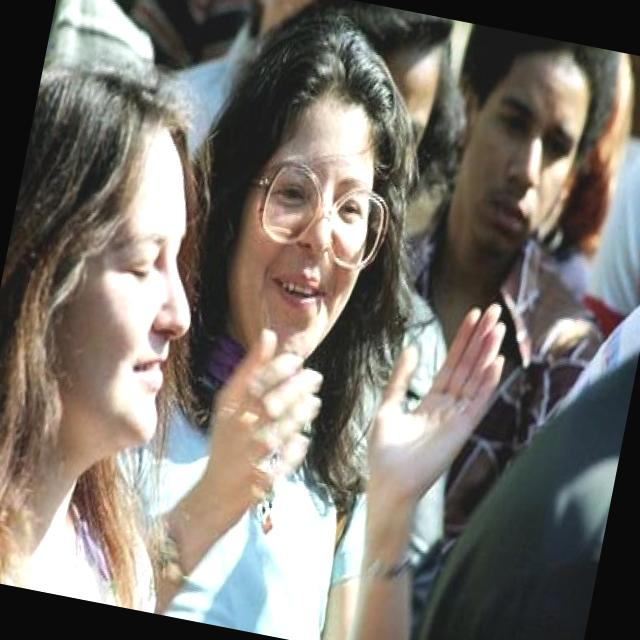no_vest: (102, 355, 379, 640)
